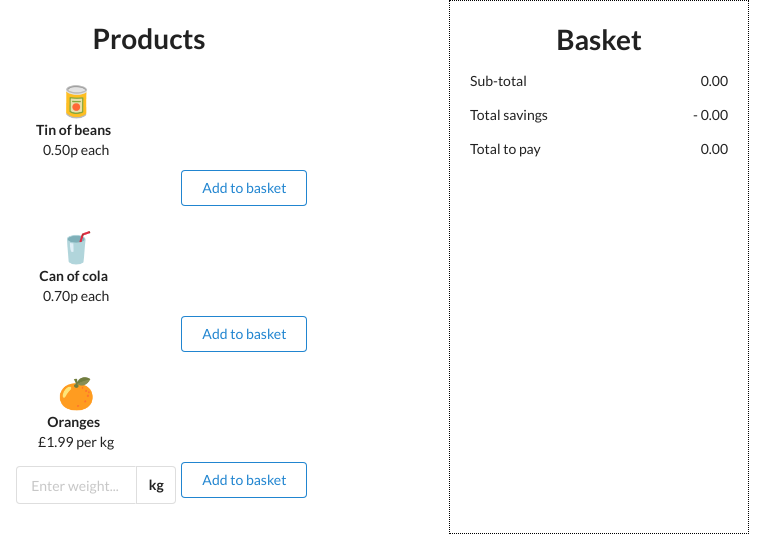
Test: Products page › should display basket items when I click add to basket
Step 1. Click the button with test id "add-button-2" → point(244, 334), box x1=181 y1=316 x2=308 y2=352
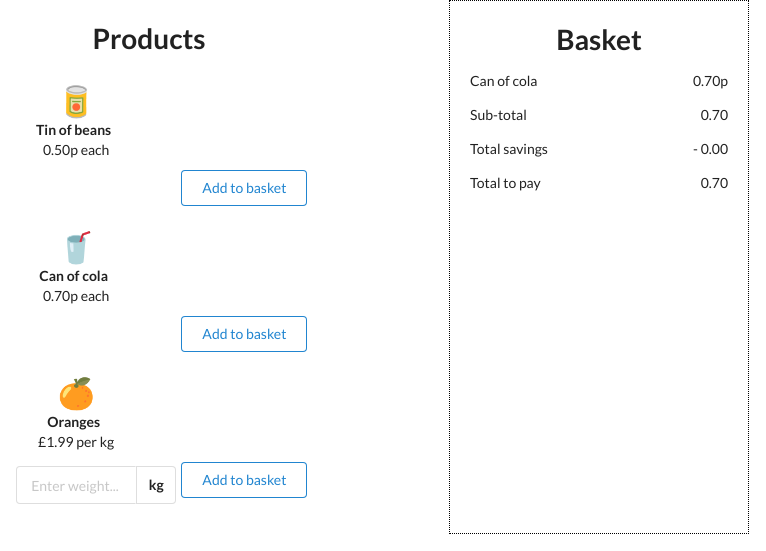
Now the text "Can of cola" is shown once, box x1=470 y1=71 x2=537 y2=91
// update quantity when added to basket twice
Step 2. Click the button with test id "add-button-2" → point(244, 334), box x1=181 y1=316 x2=308 y2=352
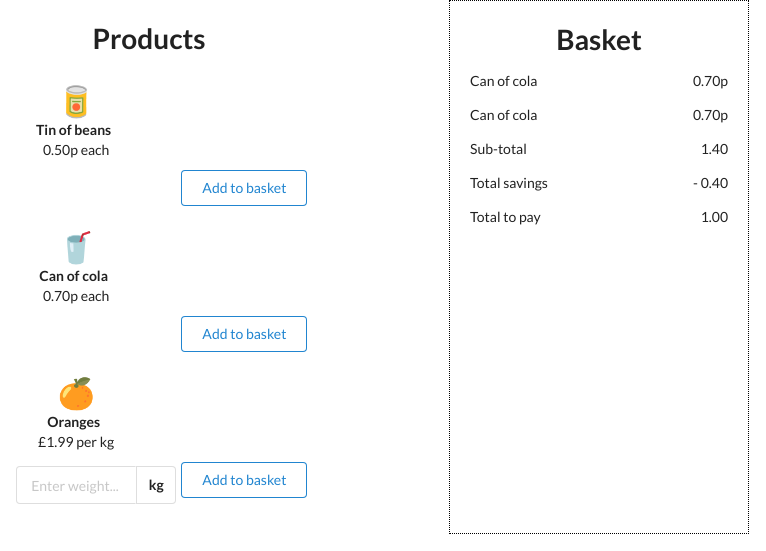
Now the text "Can of cola" is shown 2 times, box x1=470 y1=71 x2=537 y2=91; x1=470 y1=105 x2=537 y2=125
